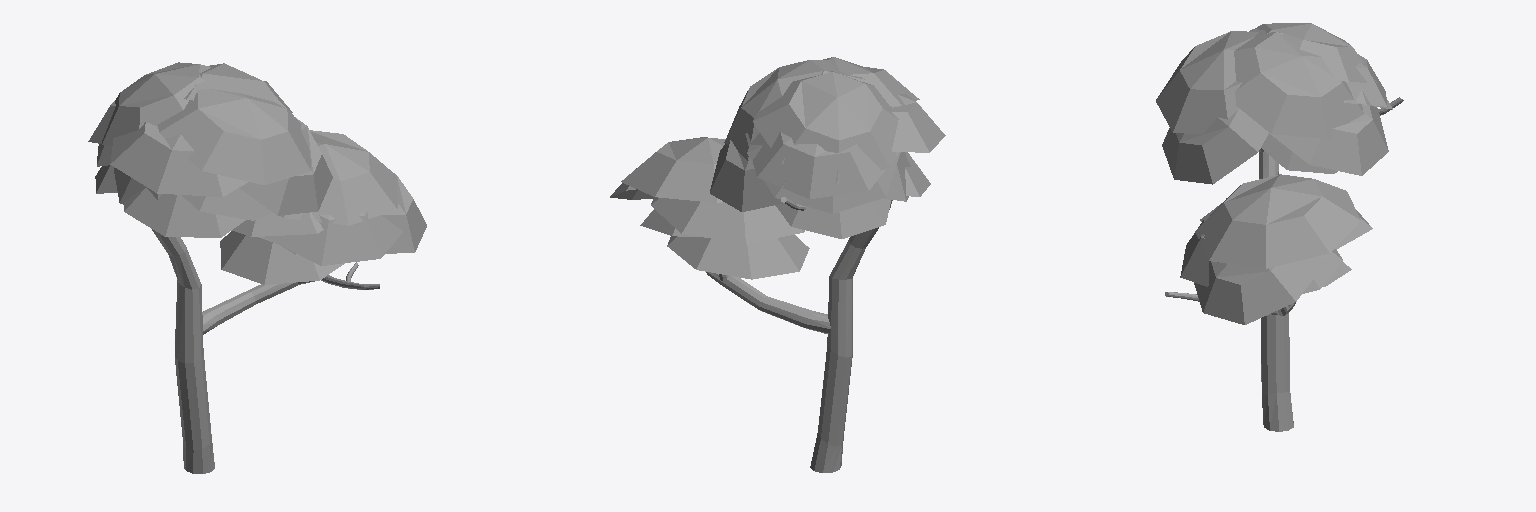
File: Tree_6.obj
The picture shows the model from 3 angles: view 1: azimuth 30°, elevation 25°; view 2: azimuth 150°, elevation 25°; view 3: azimuth 270°, elevation 25°; orthographic projection.
Visible parts, largest first — view 1: Tree_6; view 2: Tree_6; view 3: Tree_6.
Boxes of the visible parts, box(x1,y1,x2,y2) form: Tree_6: box(88, 62, 426, 473); Tree_6: box(610, 57, 945, 472); Tree_6: box(1156, 23, 1403, 431).
Bounding box in the file's own units: 6.84 × 8.38 × 4.8.